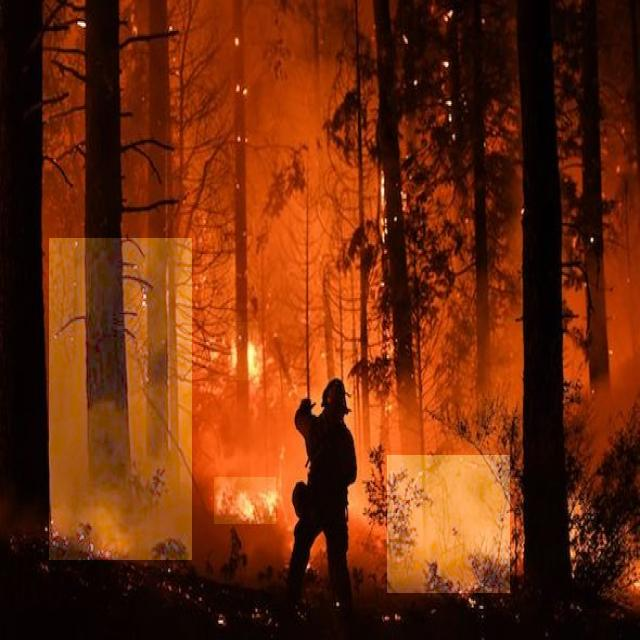Fire: (214, 477, 276, 524), (230, 322, 259, 380)
Smoke: (49, 238, 192, 560), (387, 455, 510, 593)
